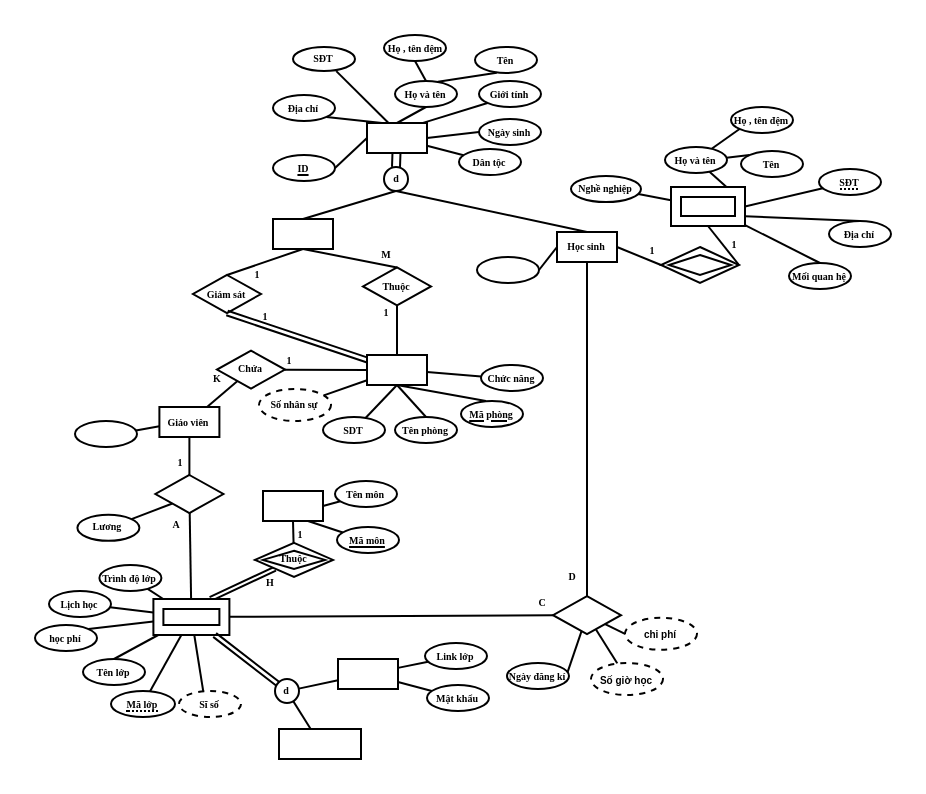
The diagram is 926 pixels wide and 794 high, and some of its shapes have lost their labels. The shapes that lost their labels are listed below. From the top down, each one's centre as x and y in pixels, then its label:
point (396, 137): Người dùng
point (707, 205): Gia đình
point (302, 233): Nhân viên
point (507, 269): Trình độ
point (699, 264): Phụ thuộc
point (396, 369): Phòng ban
point (105, 433): Blog
point (188, 493): Giảng dạy
point (292, 505): Môn học
point (190, 616): Lớp
point (586, 614): Đăng kí lớp
point (367, 673): Lớp Online
point (319, 743): Lớp Offline
